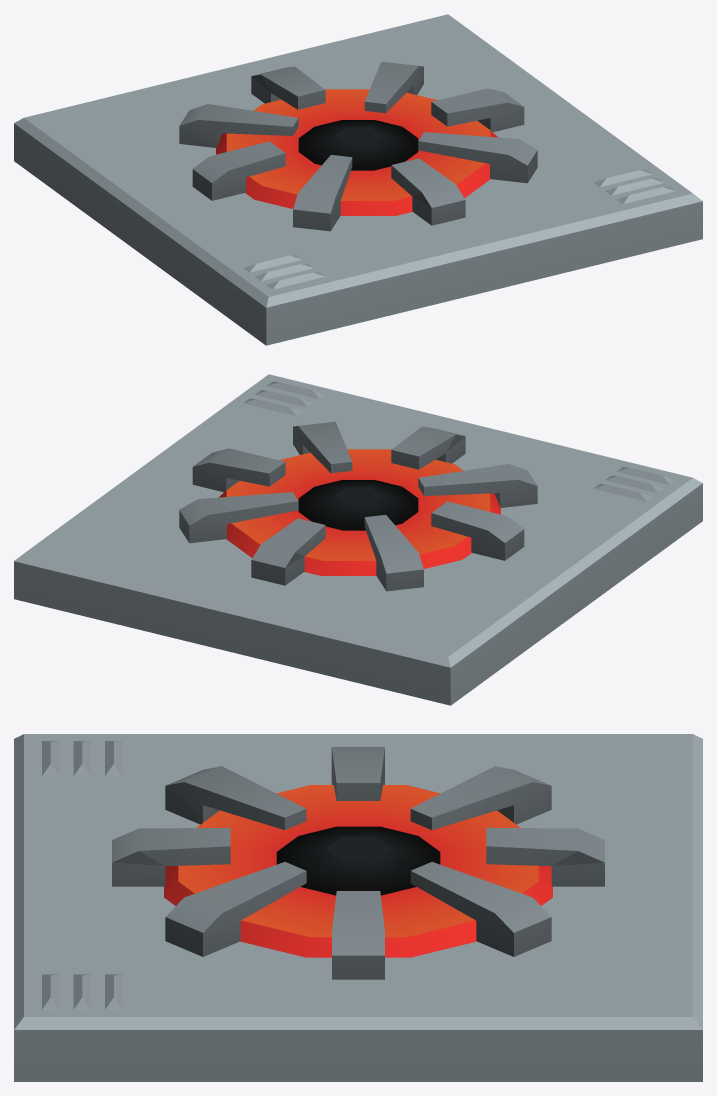
File: kay-stove_single_countertop.glb
3 views of the same model, one above another, from view 1: azimuth 30°, elevation 25°; view 2: azimuth 150°, elevation 25°; view 3: azimuth 270°, elevation 25° (orthographic). The views are drawn at different scales.
Parts seen in each view (by area): view 1: stove_single_countertop; view 2: stove_single_countertop; view 3: stove_single_countertop.
Part boxes in pixels (x1=…): stove_single_countertop: x1=14, y1=14, x2=702, y2=345; stove_single_countertop: x1=14, y1=374, x2=702, y2=705; stove_single_countertop: x1=14, y1=734, x2=702, y2=1081.
Size of the model in its own units: 0.4 by 0.0636 by 0.4.
1 material, 1 textured.
